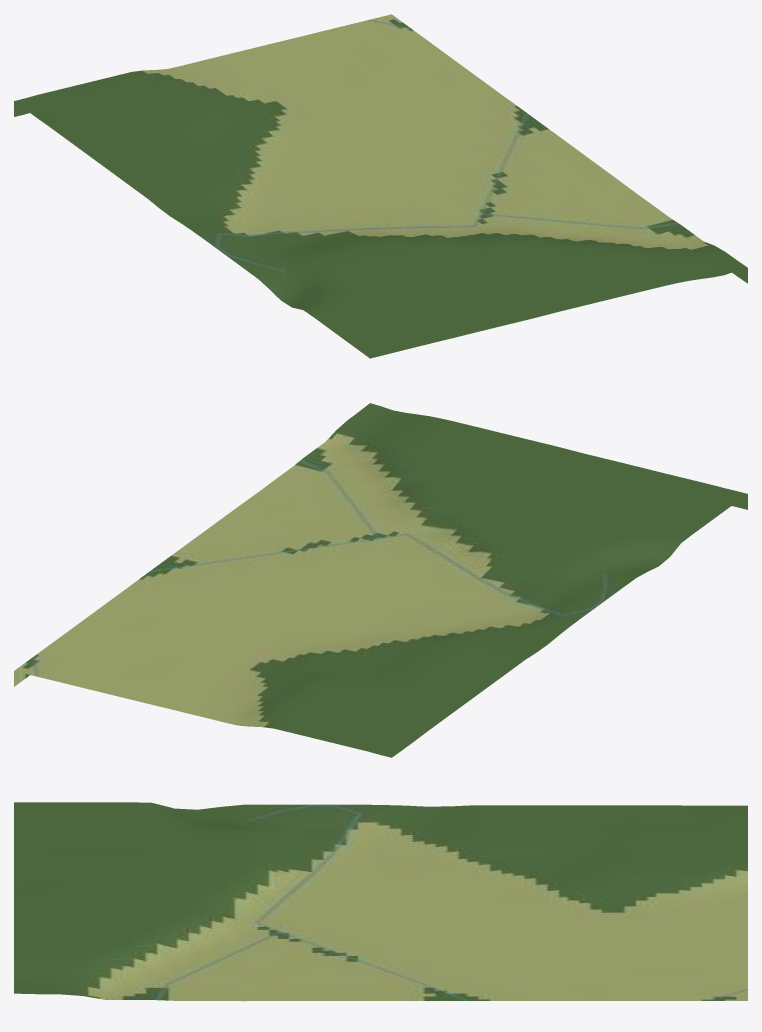
3 renders of one model, top to bottom at view 1: azimuth 30°, elevation 25°; view 2: azimuth 150°, elevation 25°; view 3: azimuth 270°, elevation 25°, orthographic. The views are drawn at different scales.
Bounding box in the file's own units: 749 × 48.43 × 1223.
1 material, 1 textured.
